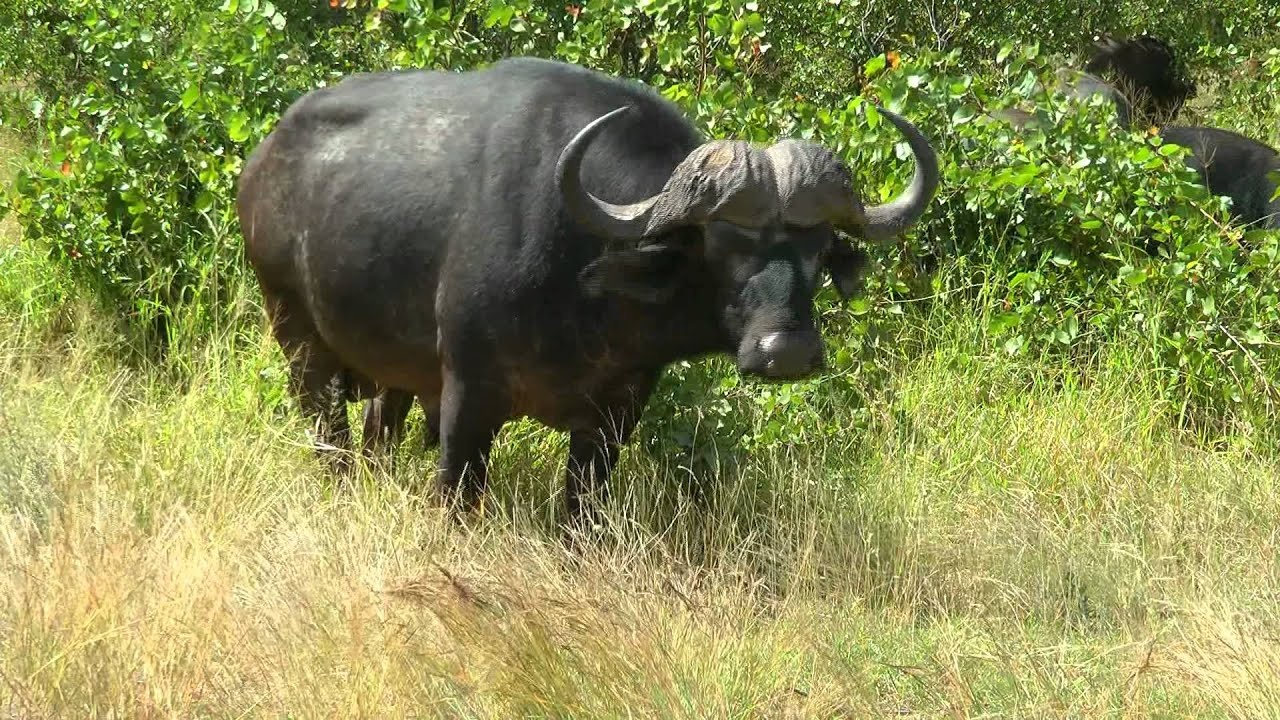buffalo: (235, 58, 944, 556)
